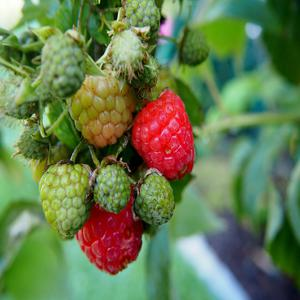raspb: (125, 83, 205, 177)
